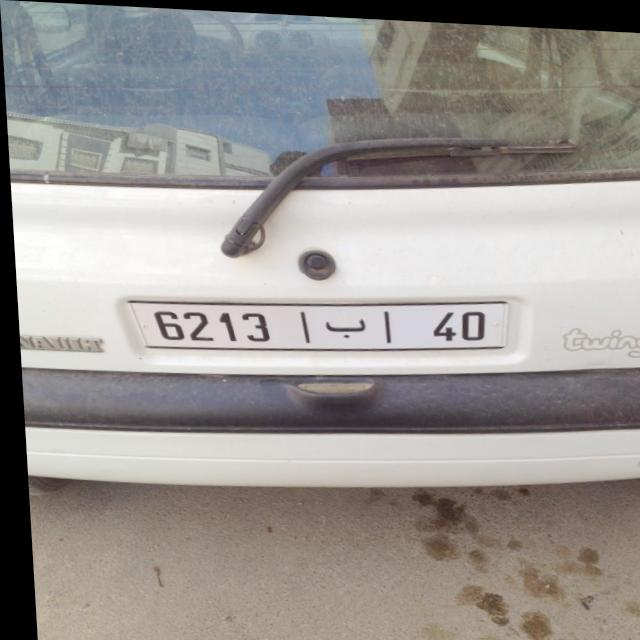License-Plate: (126, 297, 505, 348)
